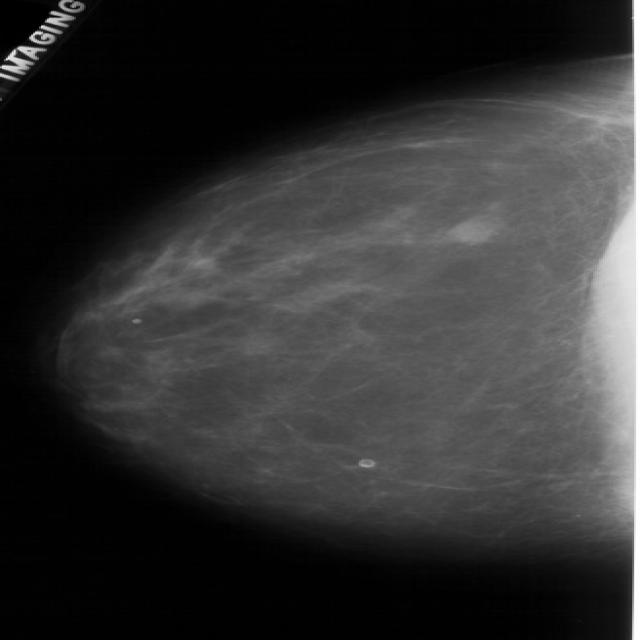tumour: (447, 213, 501, 242)
